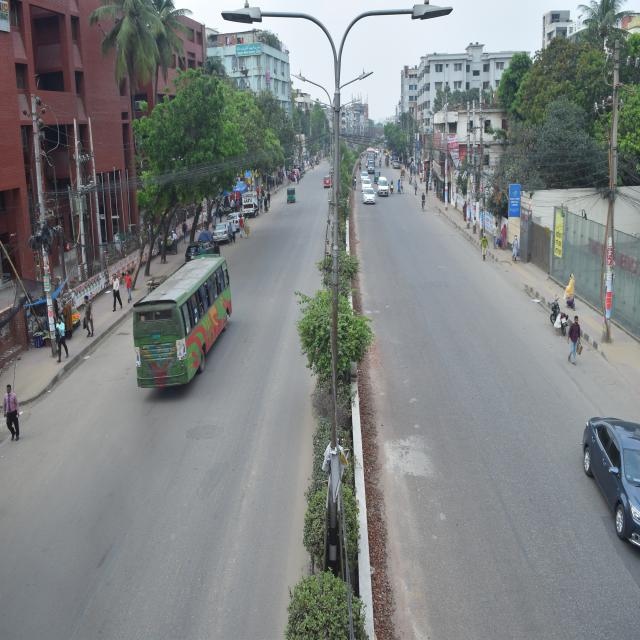bus: (127, 252, 240, 405)
car: (581, 397, 640, 551), (224, 205, 249, 228), (375, 170, 391, 200), (212, 220, 230, 243), (360, 187, 376, 210), (322, 169, 333, 191), (359, 169, 371, 187)
motorbike: (545, 294, 571, 337), (389, 173, 400, 196)
pickup-van: (240, 187, 263, 222)
